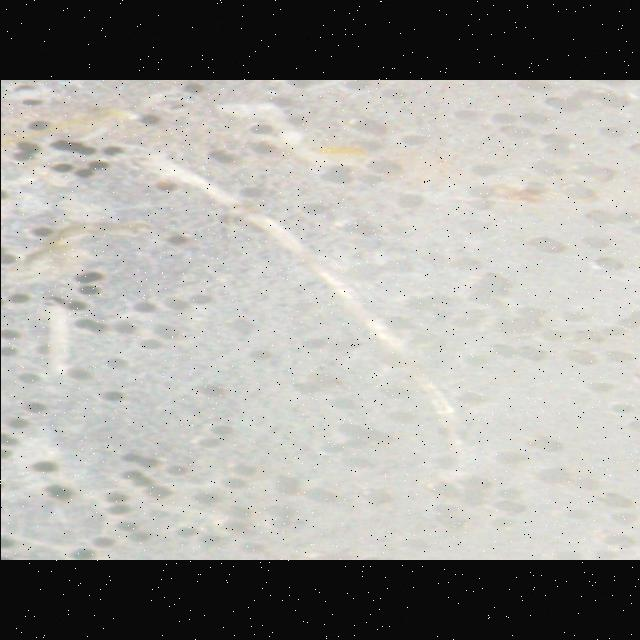Fibre: (121, 145, 496, 478)
